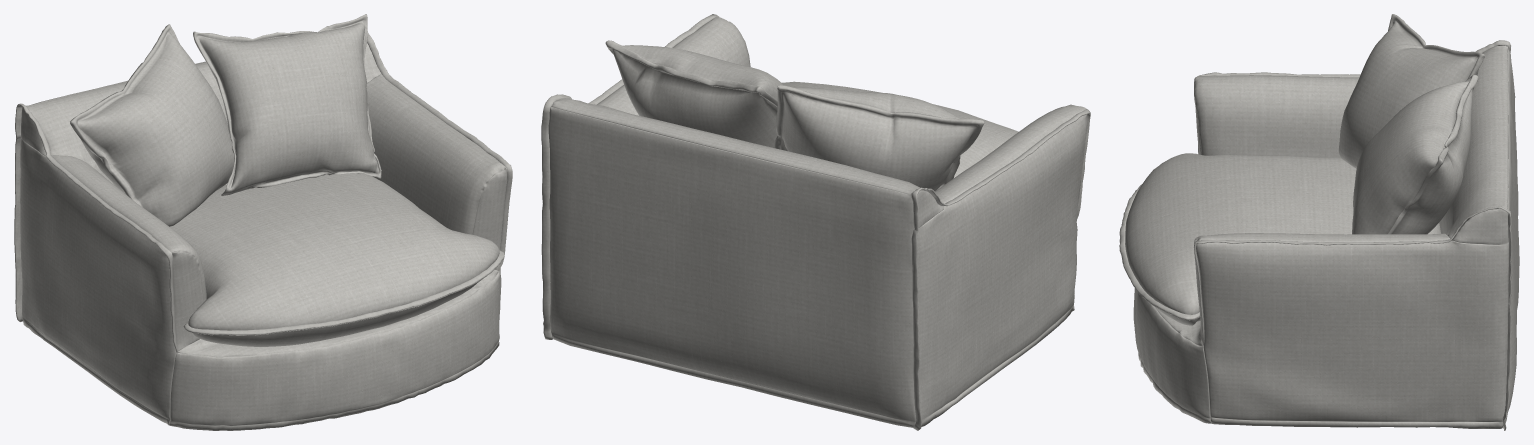
Rendered from palermo-chair.glb.
3 views of the same model, side by side, from view 1: azimuth 30°, elevation 25°; view 2: azimuth 150°, elevation 25°; view 3: azimuth 270°, elevation 25° (orthographic). The views are drawn at different scales.
Parts seen in each view (by area): view 1: Palermo-round-chair_low_2; view 2: Palermo-round-chair_low_2; view 3: Palermo-round-chair_low_2.
Boxes of the visible parts, x1,y1,x2,y2 form: Palermo-round-chair_low_2: [14, 14, 512, 430]; Palermo-round-chair_low_2: [541, 14, 1090, 430]; Palermo-round-chair_low_2: [1119, 14, 1519, 430].
Size of the model in its own units: 1.25 by 0.9189 by 1.19.
Materials: 1 (1 with a texture image).
